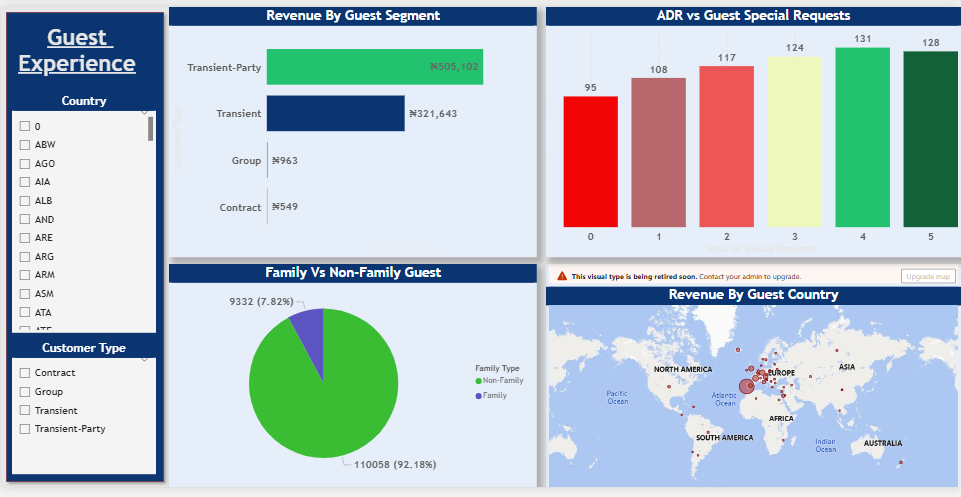

What the dashboard file says about the page in this screenshot:
{"tool":"powerbi","page":{"name":"Guest Experience Report","canvas":[1600,800],"ordinal":3},"visuals":[{"type":"shape","box":[0,0,280,800],"z":0},{"type":"textbox","box":[11.7,23.3,230,121.7],"z":1000},{"type":"map","title":"Guest Revenue Distribution  by Country","fields":{"Size":["hotel_bookings.Total Revenue"],"Category":["hotel_bookings.Country"]},"box":[280,385,1320,415],"z":2000},{"type":"clusteredBarChart","title":" Revenue By Customer Segment","fields":{"Category":["hotel_bookings.Customer Type"],"Y":["hotel_bookings.Total Revenue"]},"box":[280,0,613.3,416.7],"z":3000},{"type":"clusteredColumnChart","title":" ADR vs Guest Special Requests","fields":{"Category":["hotel_bookings.Total Of Special Requests"],"Y":["hotel_bookings.Average ADR"]},"box":[908.3,0,691.7,416.7],"z":3001},{"type":"slicer","title":"Country","fields":{"Values":["hotel_bookings.Country"]},"box":[18.3,145,248.3,636.7],"z":3002}]}

Visuals, with their boxes on the page's 1600x800 design canvas (x1, y1, x2, y2). These are canvas units, not pixel positions in the 961x497 screenshot, which may show the page scaled, cropped or inside an application window:
shape: x1=0 y1=0 x2=280 y2=800
textbox: x1=12 y1=23 x2=242 y2=145
"Guest Revenue Distribution  by Country" map: x1=280 y1=385 x2=1600 y2=800
" Revenue By Customer Segment" clusteredBarChart: x1=280 y1=0 x2=893 y2=417
" ADR vs Guest Special Requests" clusteredColumnChart: x1=908 y1=0 x2=1600 y2=417
"Country" slicer: x1=18 y1=145 x2=267 y2=782
